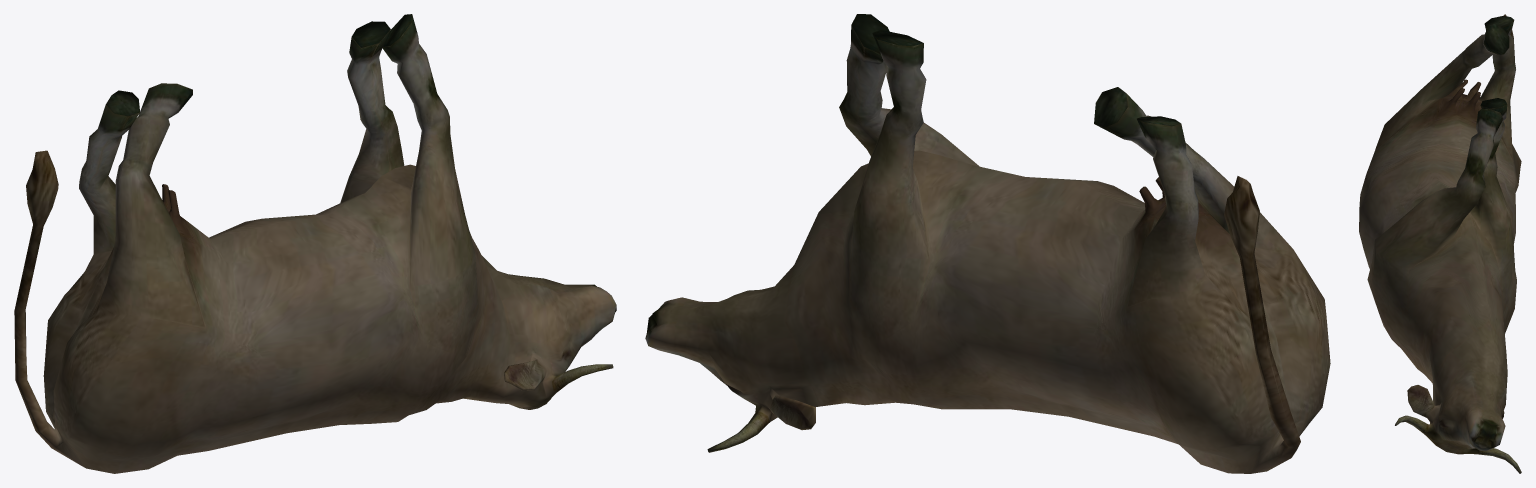
Rendered from cow_dead_1.glb.
3 renders of one model, left to right at view 1: azimuth 30°, elevation 25°; view 2: azimuth 150°, elevation 25°; view 3: azimuth 270°, elevation 25°, orthographic. The views are drawn at different scales.
Size of the model in its own units: 133 by 89.83 by 41.28.
1 material, 1 textured.
